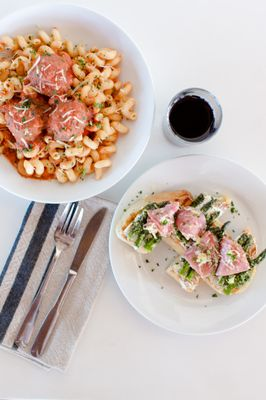curry: (237, 232, 255, 252)
sushi: (1, 4, 155, 204), (109, 155, 266, 335), (161, 86, 224, 147)
